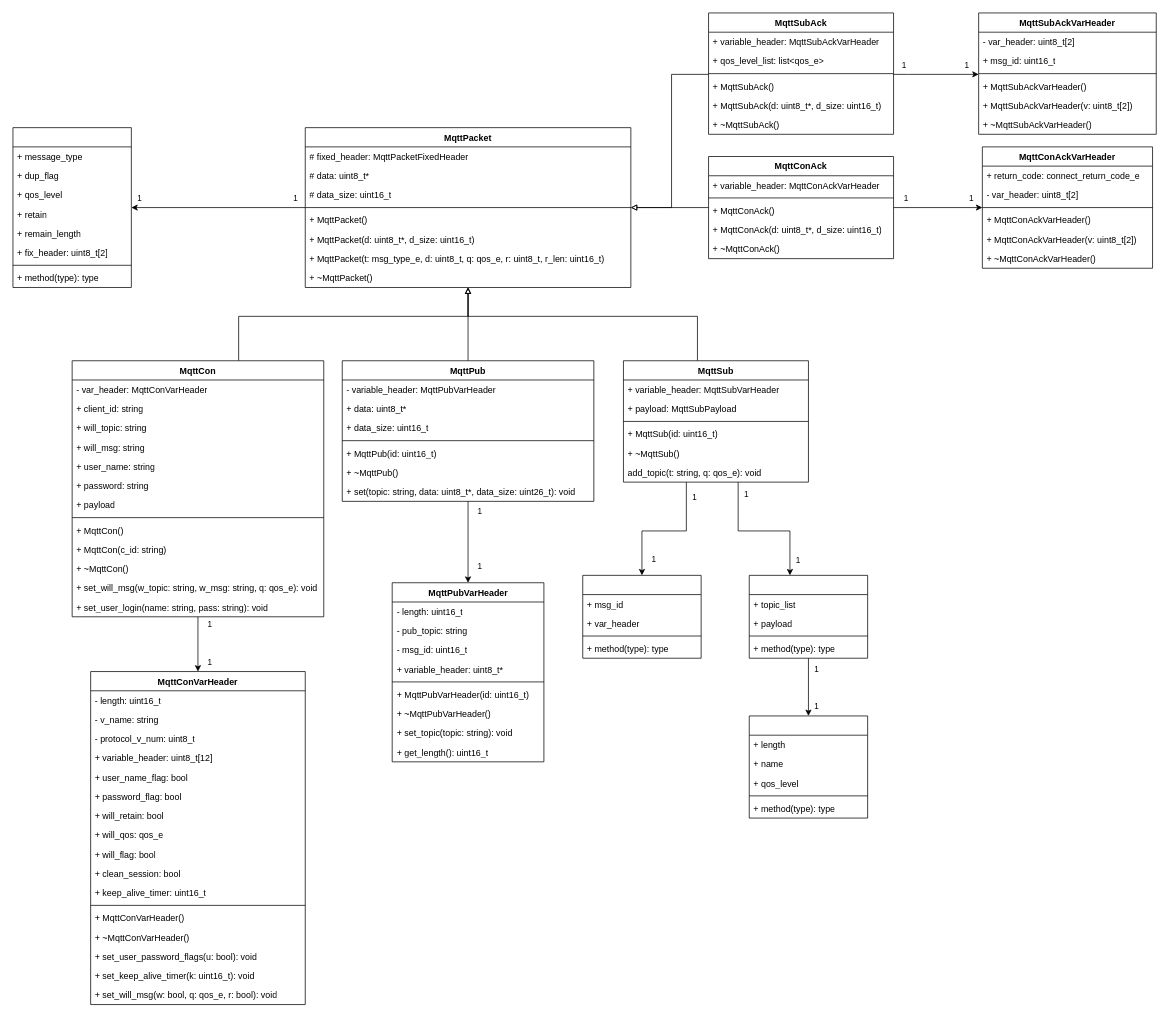
Image size: 1169x1020. Some labels were removed from this diagram. The shapes that lost their labels are listed below. From the top down, each one's box as (x1, y1, x2, y2) in pixels, then its label:
(12, 127, 131, 287): MqttPacketFixedHeader
(582, 575, 701, 658): MqttSubVarHeader
(749, 575, 868, 658): MqttSubPayload
(749, 715, 868, 818): MqttSubTopic
